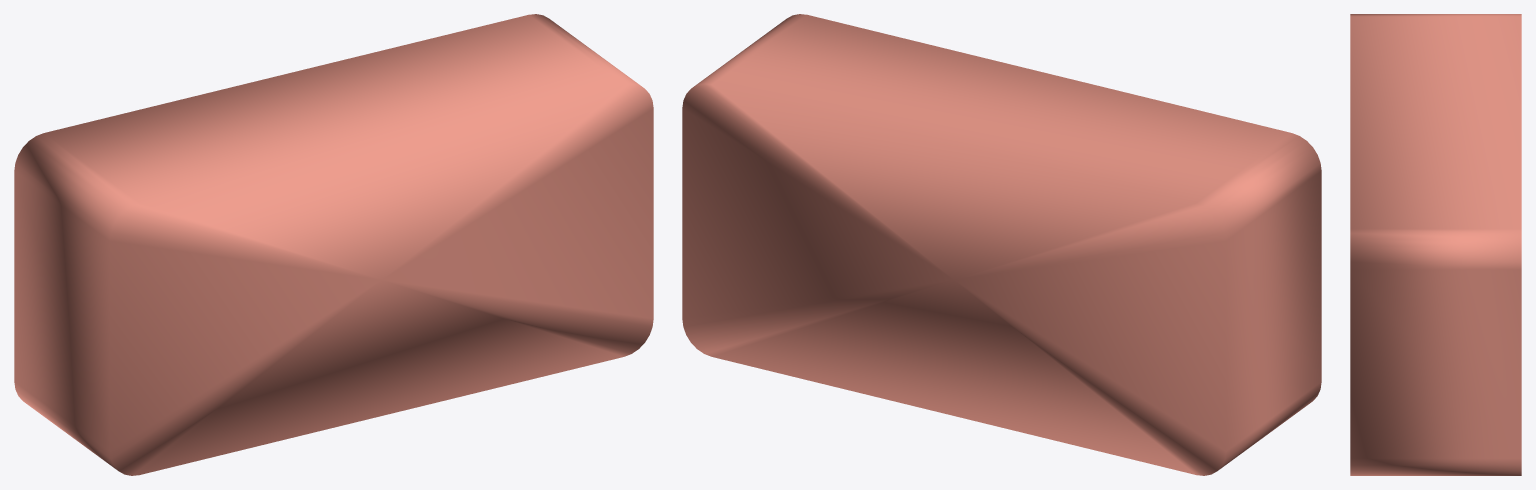
Rendered from eraser.glb.
3 renders of one model, left to right at view 1: azimuth 30°, elevation 25°; view 2: azimuth 150°, elevation 25°; view 3: azimuth 270°, elevation 25°, orthographic. The views are drawn at different scales.
Visible parts, largest first — view 1: eraser; view 2: eraser; view 3: eraser.
Part boxes in pixels (x1,y1,x2,y2): eraser: (14,14,653,475); eraser: (682,14,1321,475); eraser: (1350,14,1521,475).
Bounding box in the file's own units: 0.046 × 0.022 × 0.014.
